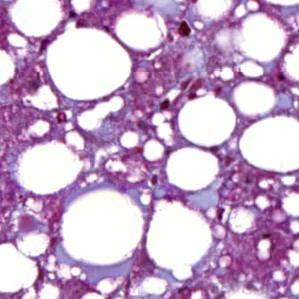steatosis: (58, 186, 146, 266), (39, 26, 133, 100), (179, 92, 237, 151)
